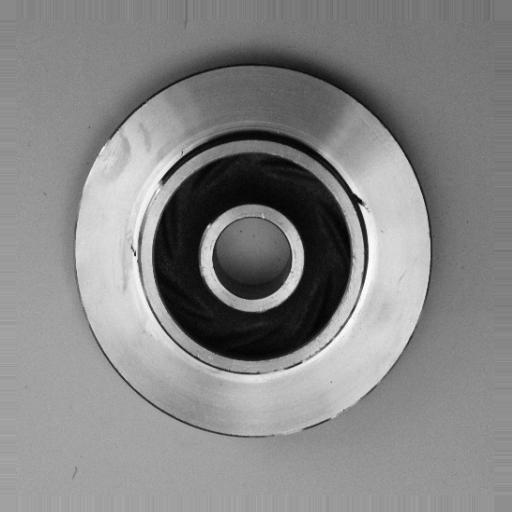crack: (342, 181, 381, 225)
unpolished_casting: (73, 61, 436, 443)
